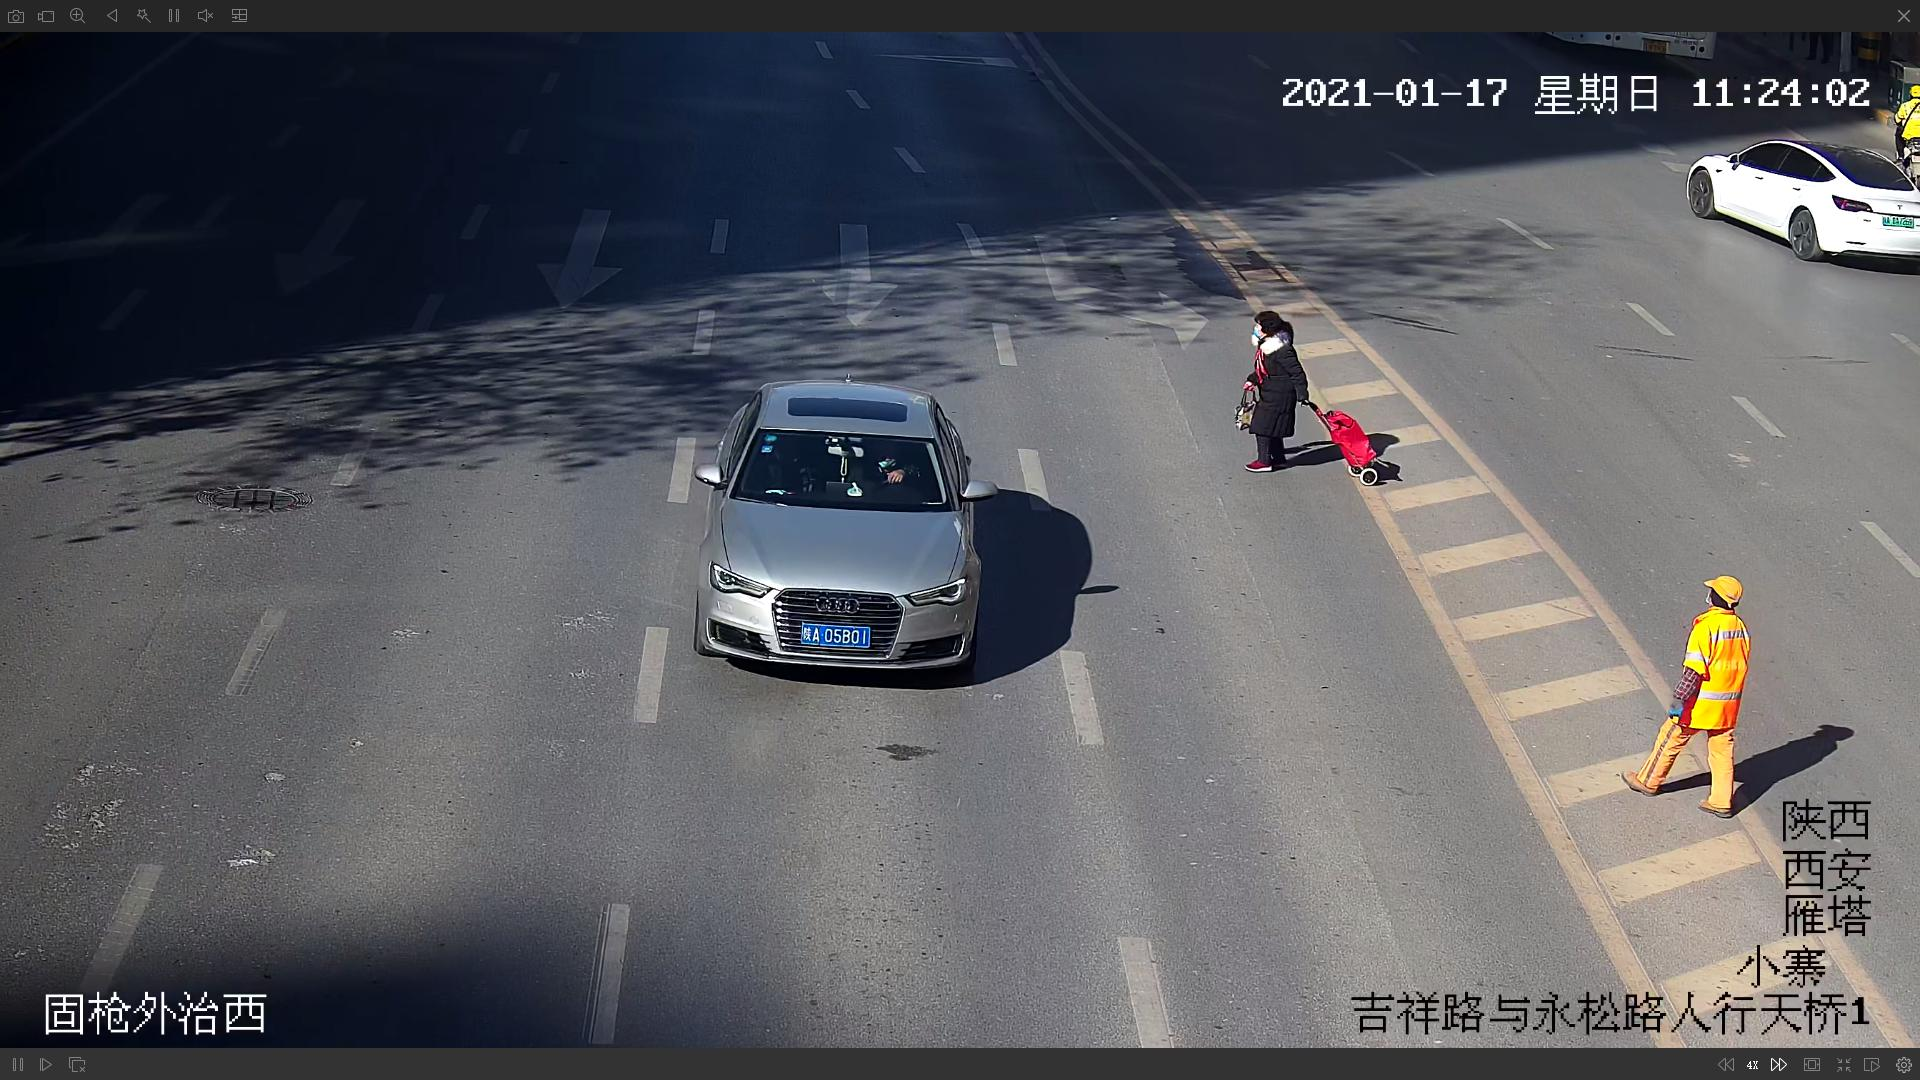silver-gray: (696, 381, 992, 673)
